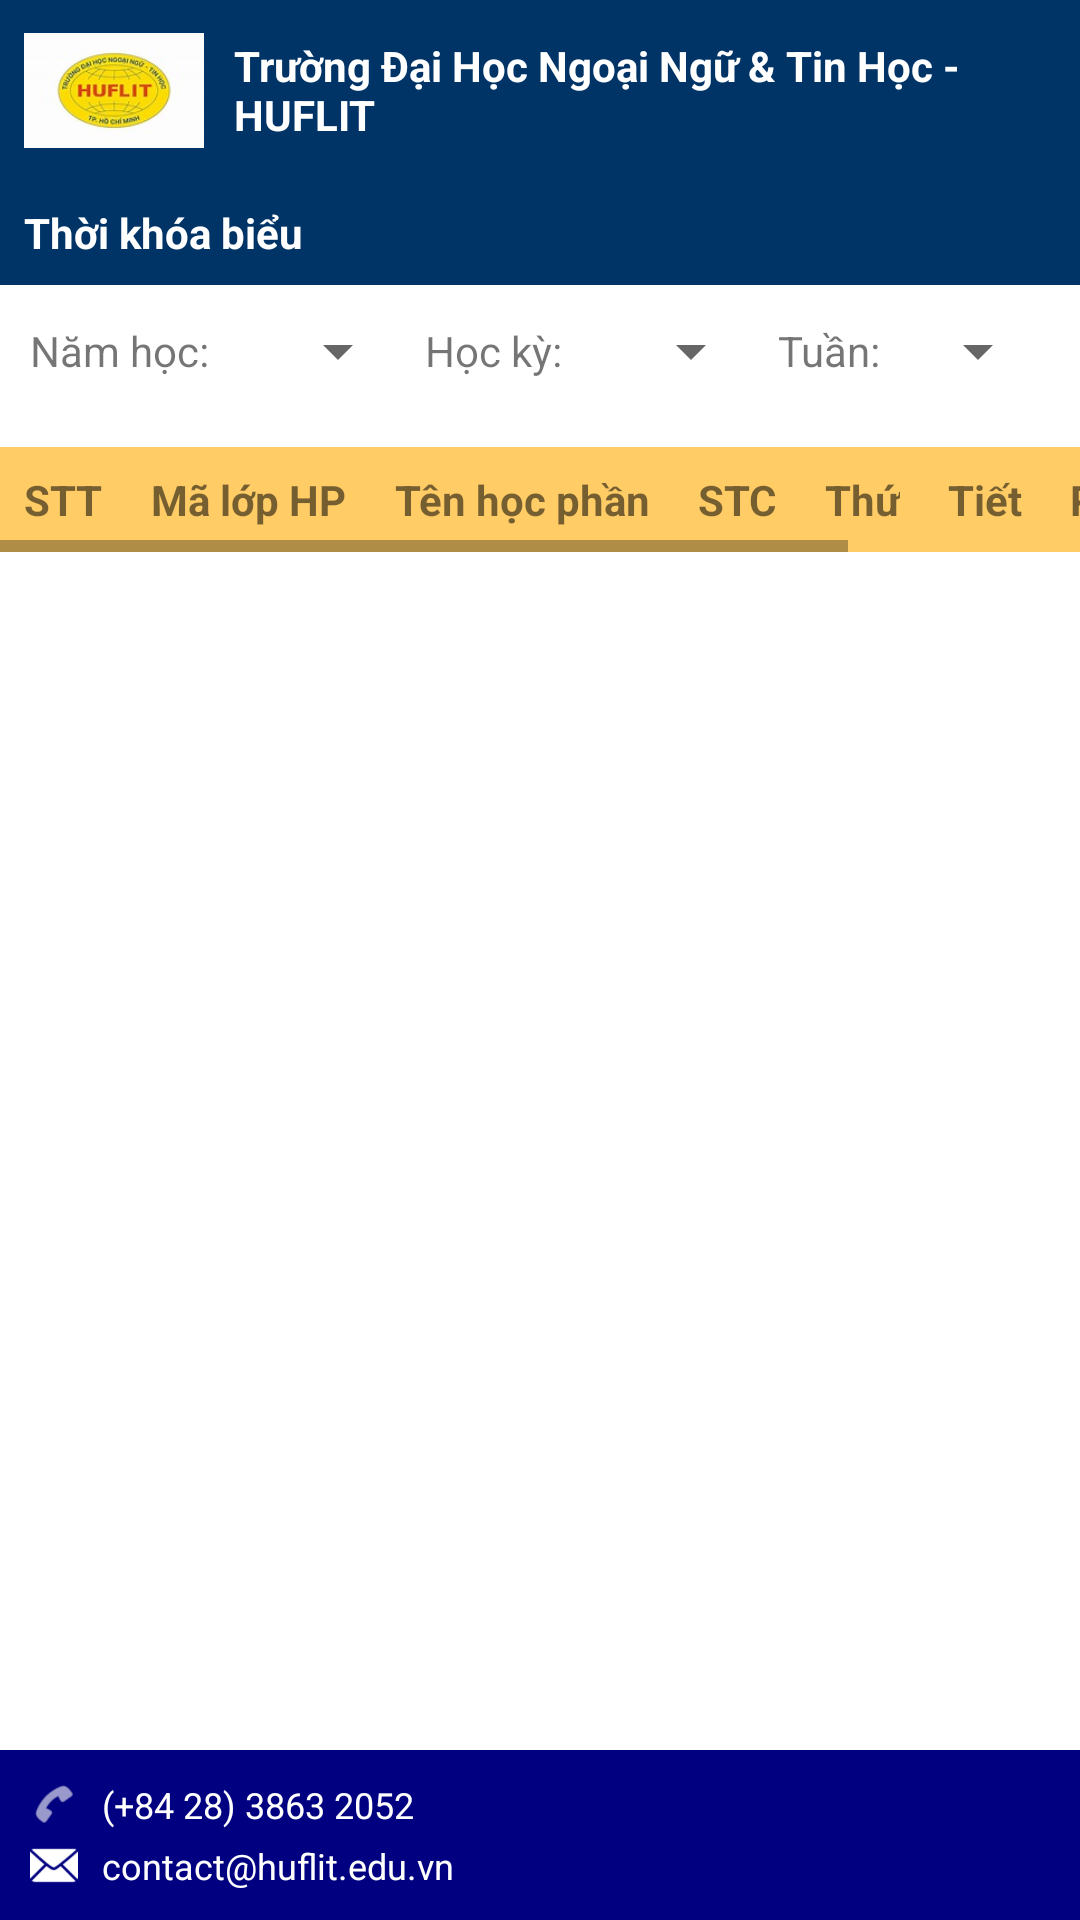

Named icons in this screenshot (1080px x 1920px) and their bounding boxes, box=[x1, y1, x2, y2]:
call: box=[35, 1785, 73, 1823]
email: box=[30, 1848, 78, 1883]
